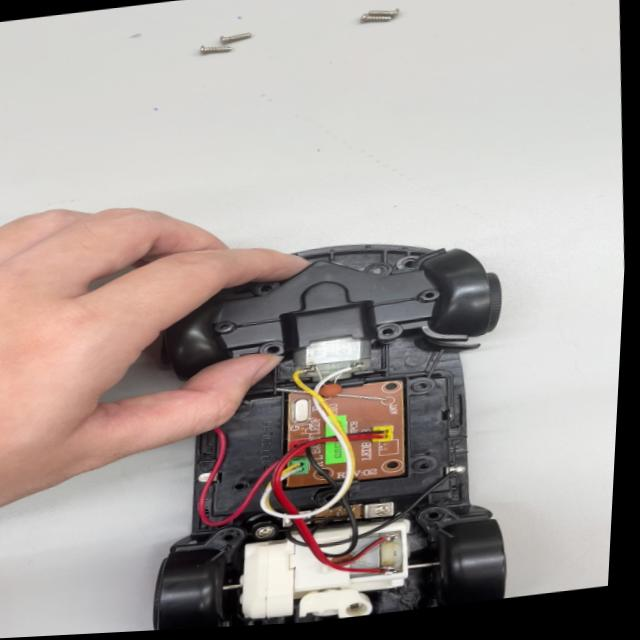Chassis: (157, 224, 506, 630)
motor_cover: (155, 243, 507, 379)
screw: (189, 37, 245, 66), (217, 23, 259, 46), (366, 0, 413, 20), (352, 9, 392, 32)
